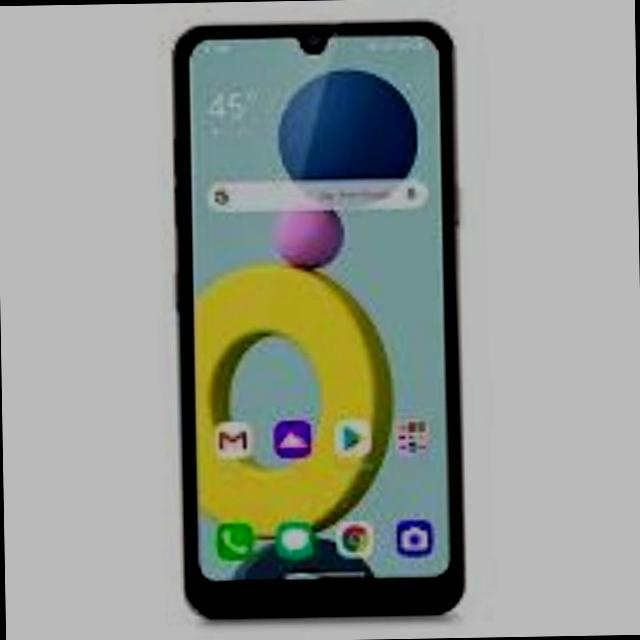phone: (175, 22, 462, 622)
